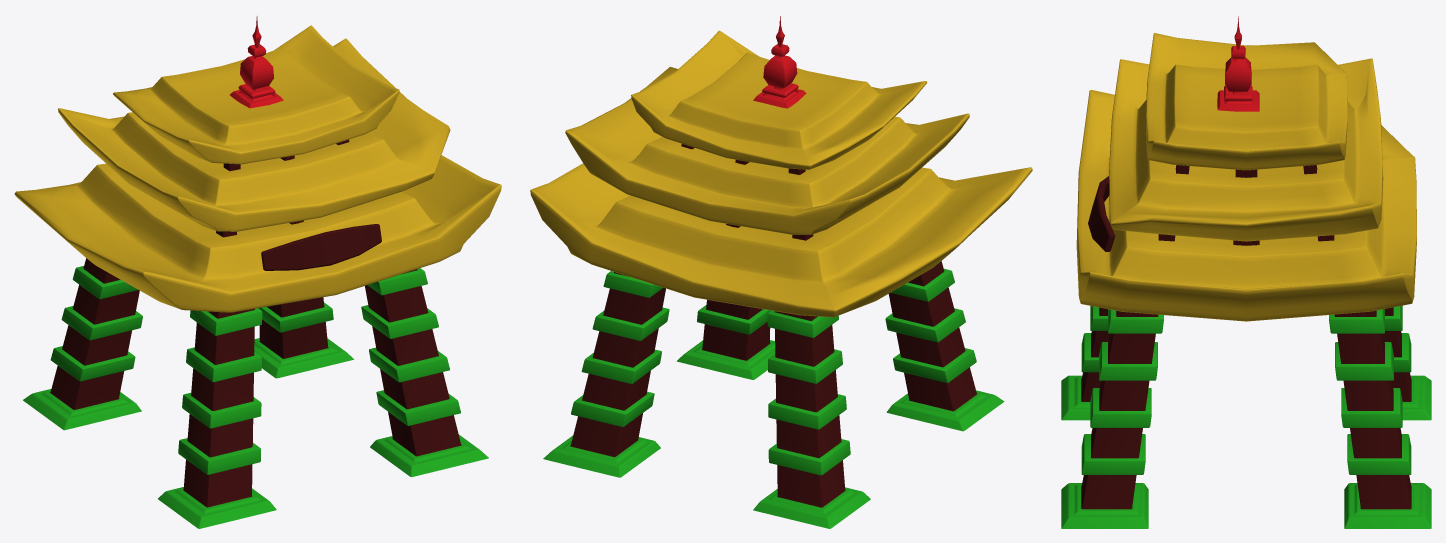
The model's file is SM_Pagoda.fbx.
3 renders of one model, left to right at view 1: azimuth 30°, elevation 25°; view 2: azimuth 150°, elevation 25°; view 3: azimuth 270°, elevation 25°, orthographic. The views are drawn at different scales.
Parts seen in each view (by area): view 1: SM_Pagoda; view 2: SM_Pagoda; view 3: SM_Pagoda.
Boxes of the visible parts, x1,y1,x2,y2 form: SM_Pagoda: (14,16,501,528); SM_Pagoda: (530,16,1032,528); SM_Pagoda: (1061,16,1431,528).
Bounding box in the file's own units: 203 × 172 × 225.
